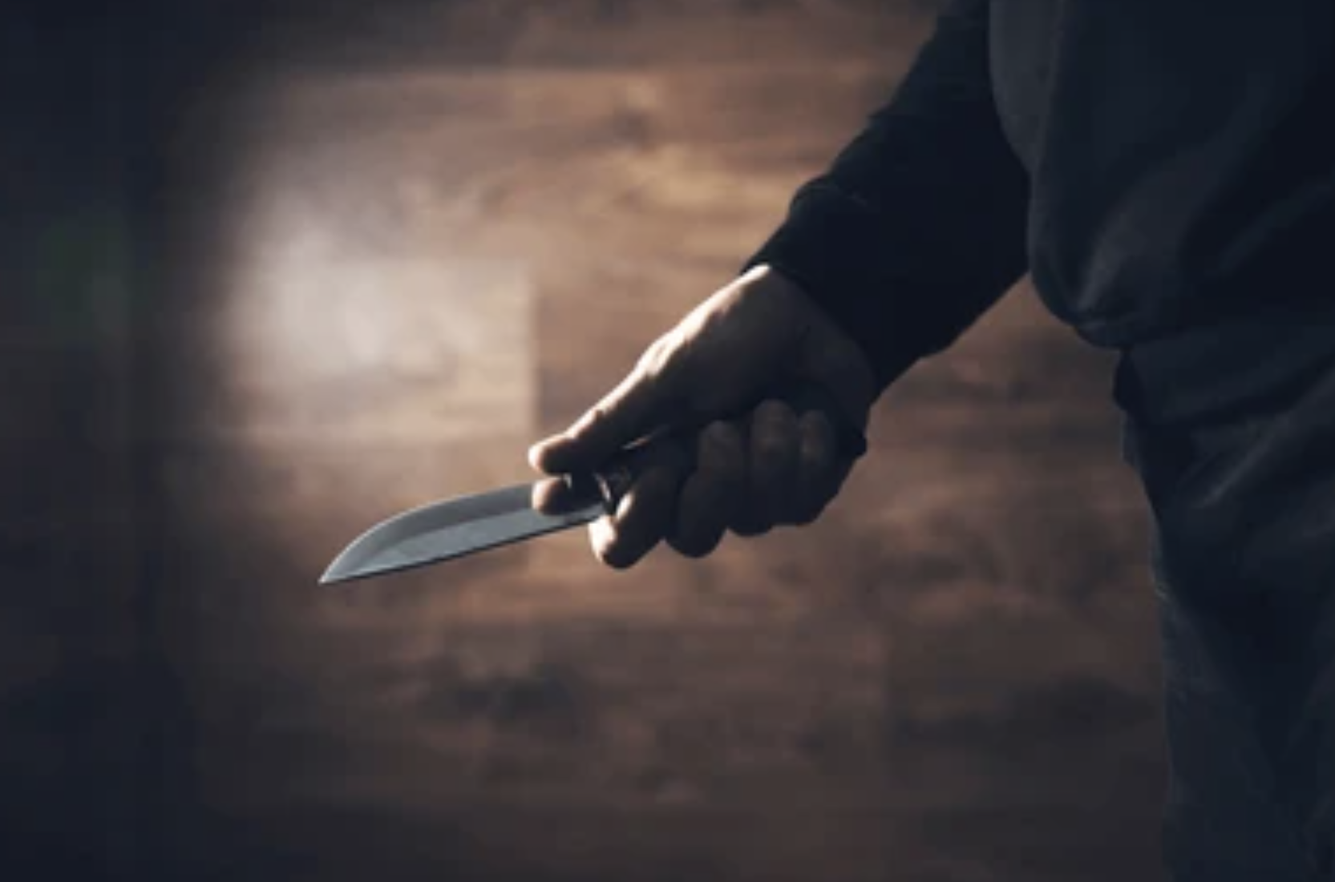knife_60.png: (294, 437, 695, 611)
